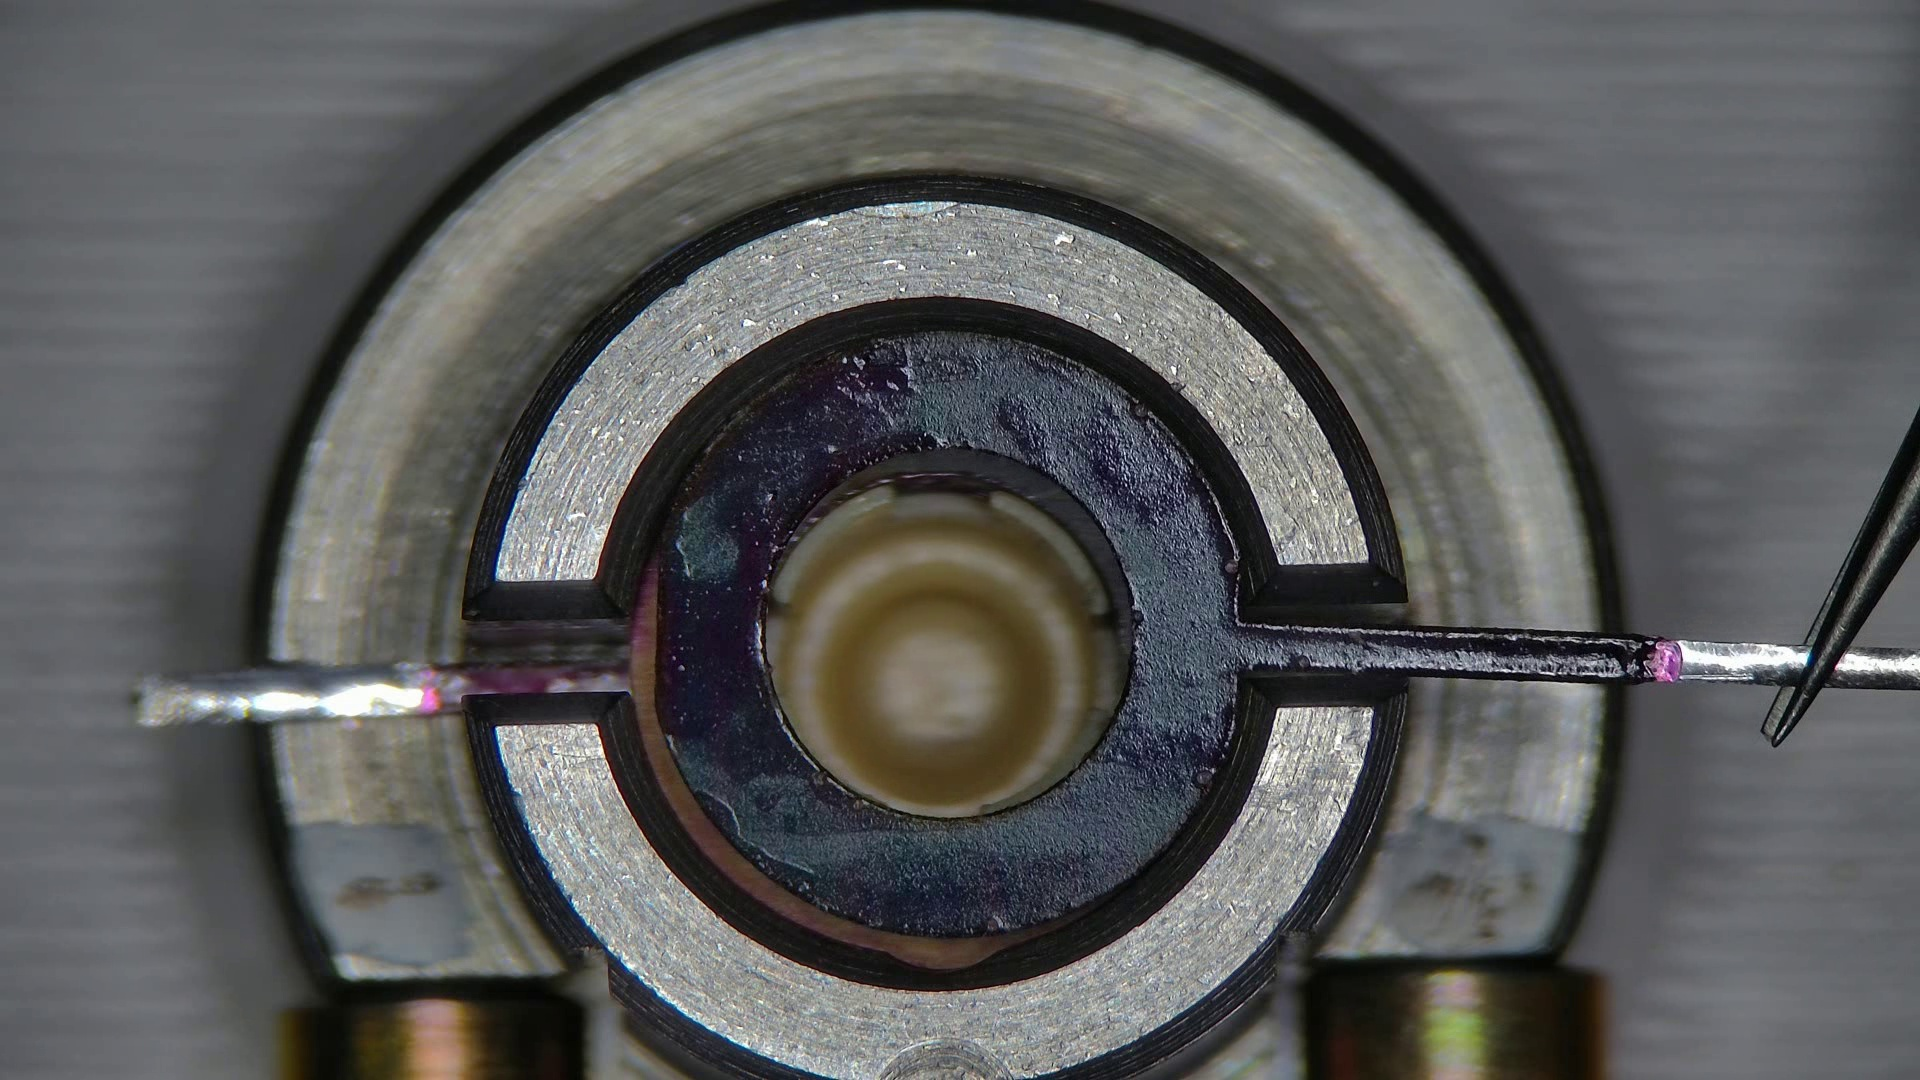GreyOring: (632, 582, 1000, 971)
YellowOring: (654, 328, 1241, 934), (833, 450, 1131, 608)
